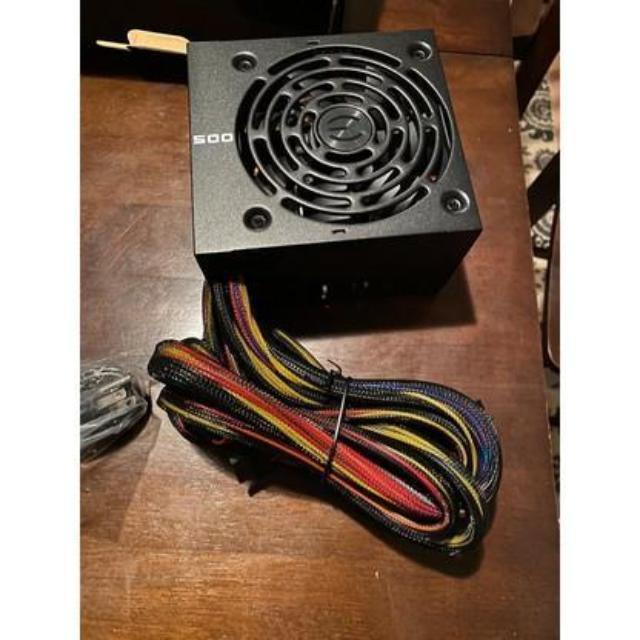PSU: (177, 25, 491, 304)
